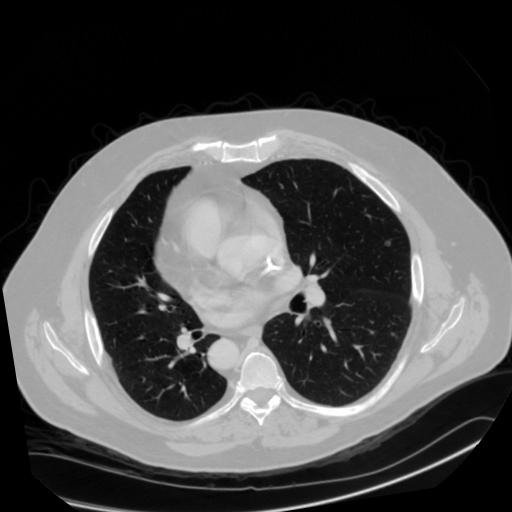nodule: (384, 238, 394, 248)
